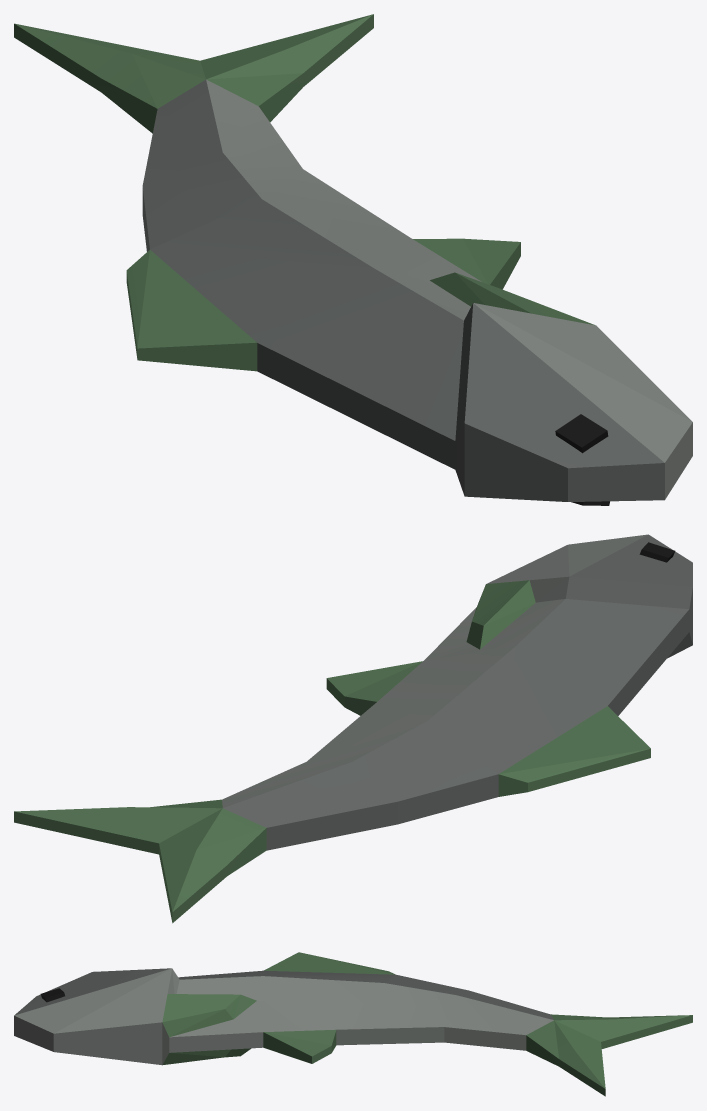
The model's file is Pescado_01.glb.
3 views of the same model, one above another, from view 1: azimuth 30°, elevation 25°; view 2: azimuth 150°, elevation 25°; view 3: azimuth 270°, elevation 25° (orthographic). The views are drawn at different scales.
Parts seen in each view (by area): view 1: SM_Prop_Fish_02; view 2: SM_Prop_Fish_02; view 3: SM_Prop_Fish_02.
Part boxes in pixels (left/top/right/bottom): SM_Prop_Fish_02: left=14, top=14, right=692, bottom=505; SM_Prop_Fish_02: left=14, top=534, right=692, bottom=923; SM_Prop_Fish_02: left=14, top=952, right=692, bottom=1096.
Size of the model in its own units: 0.4478 by 0.1375 by 0.934.
Materials: 1 (1 with a texture image).
